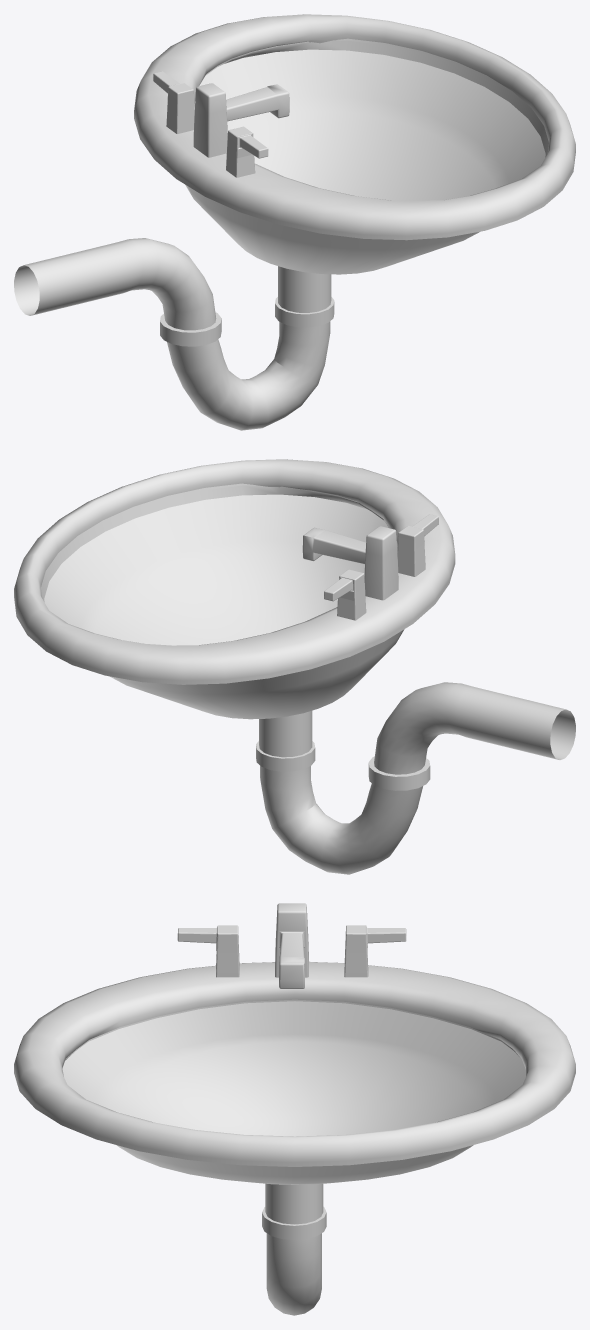
File: Bathroom_And_Misc_5.fbx
3 views of the same model, one above another, from view 1: azimuth 30°, elevation 25°; view 2: azimuth 150°, elevation 25°; view 3: azimuth 270°, elevation 25° (orthographic). The views are drawn at different scales.
Parts seen in each view (by area): view 1: Cylinder.009; view 2: Cylinder.009; view 3: Cylinder.009.
Boxes of the visible parts, x1,y1,x2,y2 form: Cylinder.009: (14,14,575,430); Cylinder.009: (14,459,575,874); Cylinder.009: (14,903,575,1315).
Bounding box in the file's own units: 72.89 × 47.81 × 64.58.
